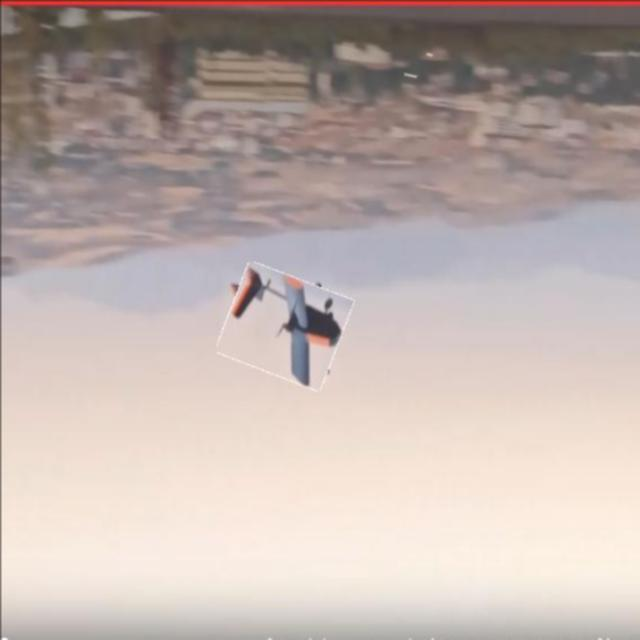plane: (226, 258, 353, 388)
